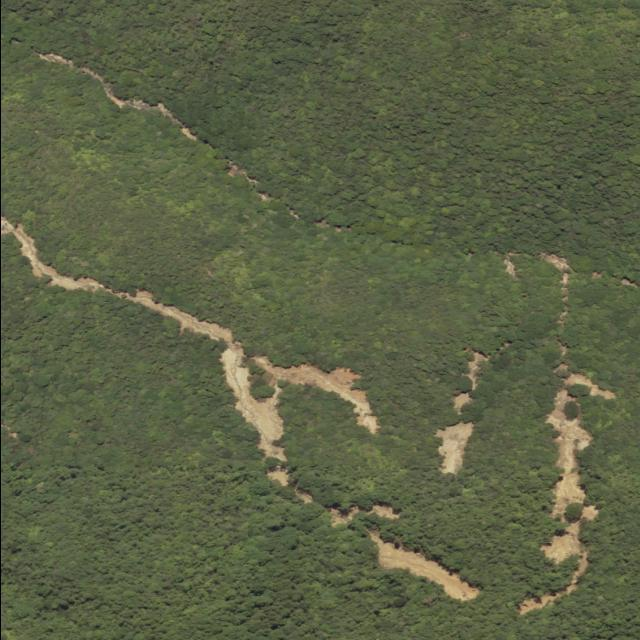landslide: (0, 216, 376, 461), (519, 374, 616, 615), (251, 356, 378, 434), (369, 531, 478, 602), (220, 347, 284, 461), (541, 524, 587, 583), (435, 423, 474, 474), (554, 452, 585, 511), (520, 594, 560, 613)
